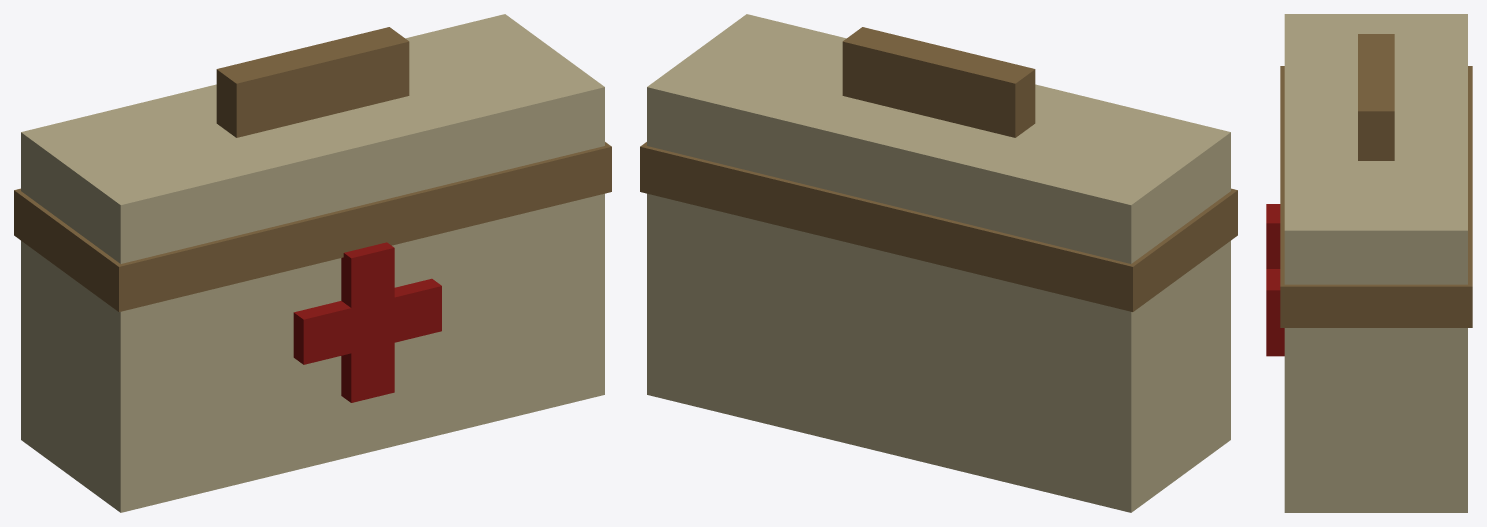
File: med_kit.glb
3 views of the same model, side by side, from view 1: azimuth 30°, elevation 25°; view 2: azimuth 150°, elevation 25°; view 3: azimuth 270°, elevation 25° (orthographic). The views are drawn at different scales.
Visible parts, largest first — view 1: med_kit; view 2: med_kit; view 3: med_kit.
Boxes of the visible parts, bbox=[...] form: med_kit: bbox=[14, 14, 611, 512]; med_kit: bbox=[640, 14, 1237, 512]; med_kit: bbox=[1266, 14, 1472, 512].
Bounding box in the file's own units: 0.285 × 0.2 × 0.1125.
